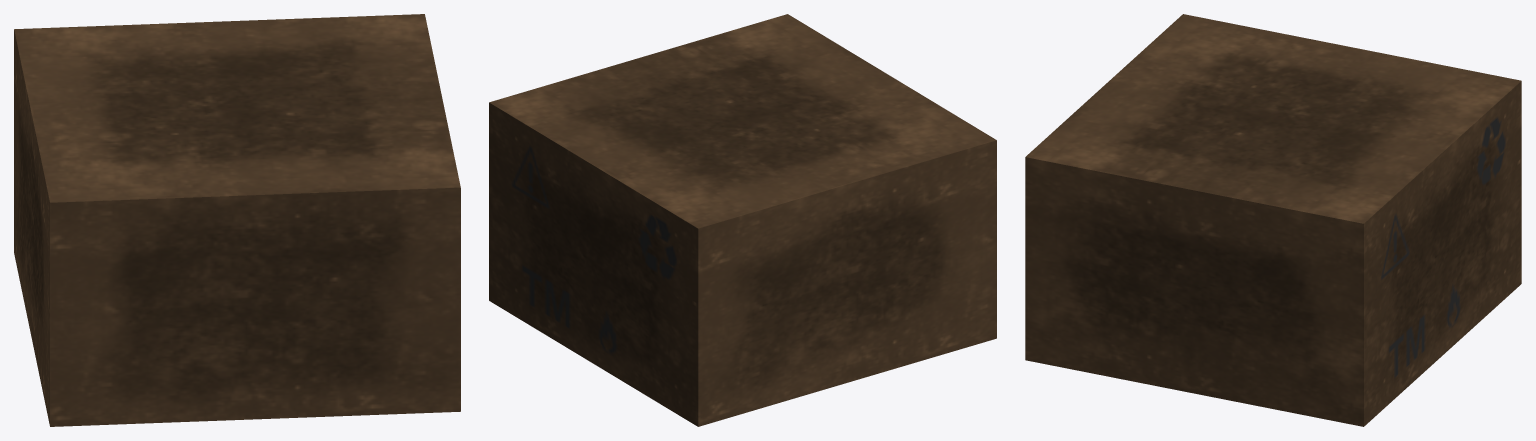
The picture shows the model from 3 angles, left to right: view 1: azimuth 30°, elevation 25°; view 2: azimuth 150°, elevation 25°; view 3: azimuth 270°, elevation 25°; orthographic projection. The views are drawn at different scales.
Parts seen in each view (by area): view 1: Cube.001_misc_0; view 2: Cube.001_misc_0; view 3: Cube.001_misc_0.
Part boxes in pixels (x1,y1,x2,y2): Cube.001_misc_0: (14,14,460,426); Cube.001_misc_0: (489,14,996,426); Cube.001_misc_0: (1025,14,1521,426).
Size of the model in its own units: 0.3322 by 0.15 by 0.3322.
Materials: 1 (1 with a texture image).
